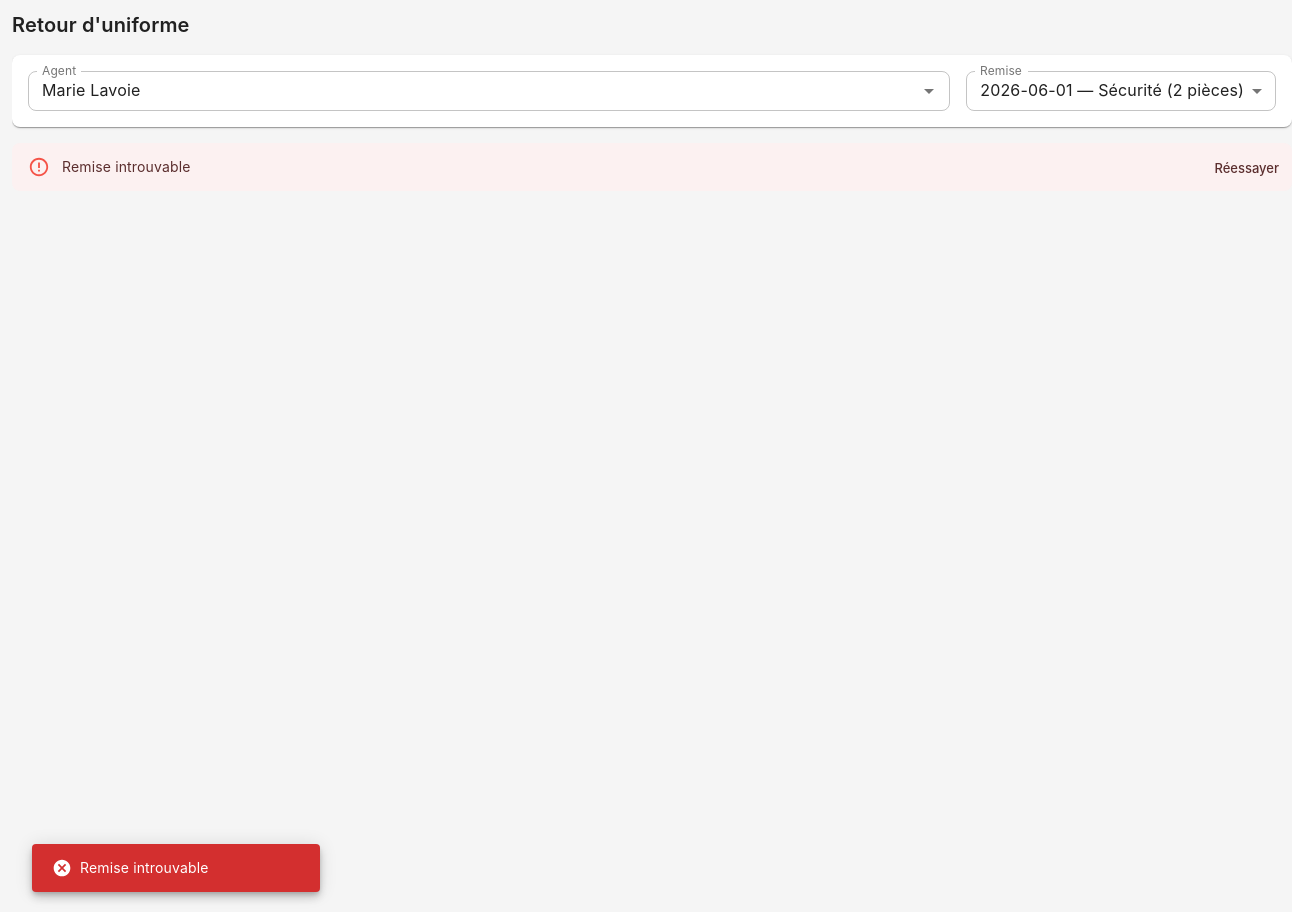
Scenario: UniformReturnsPage › affiche l'erreur de chargement de la remise et permet de réessayer
Expected: the dropdown showing "Marie Lavoie" is shown, [34, 77, 885, 105]
Click the dropdown named "remise" at (1112, 90), box [980, 80, 1244, 100]
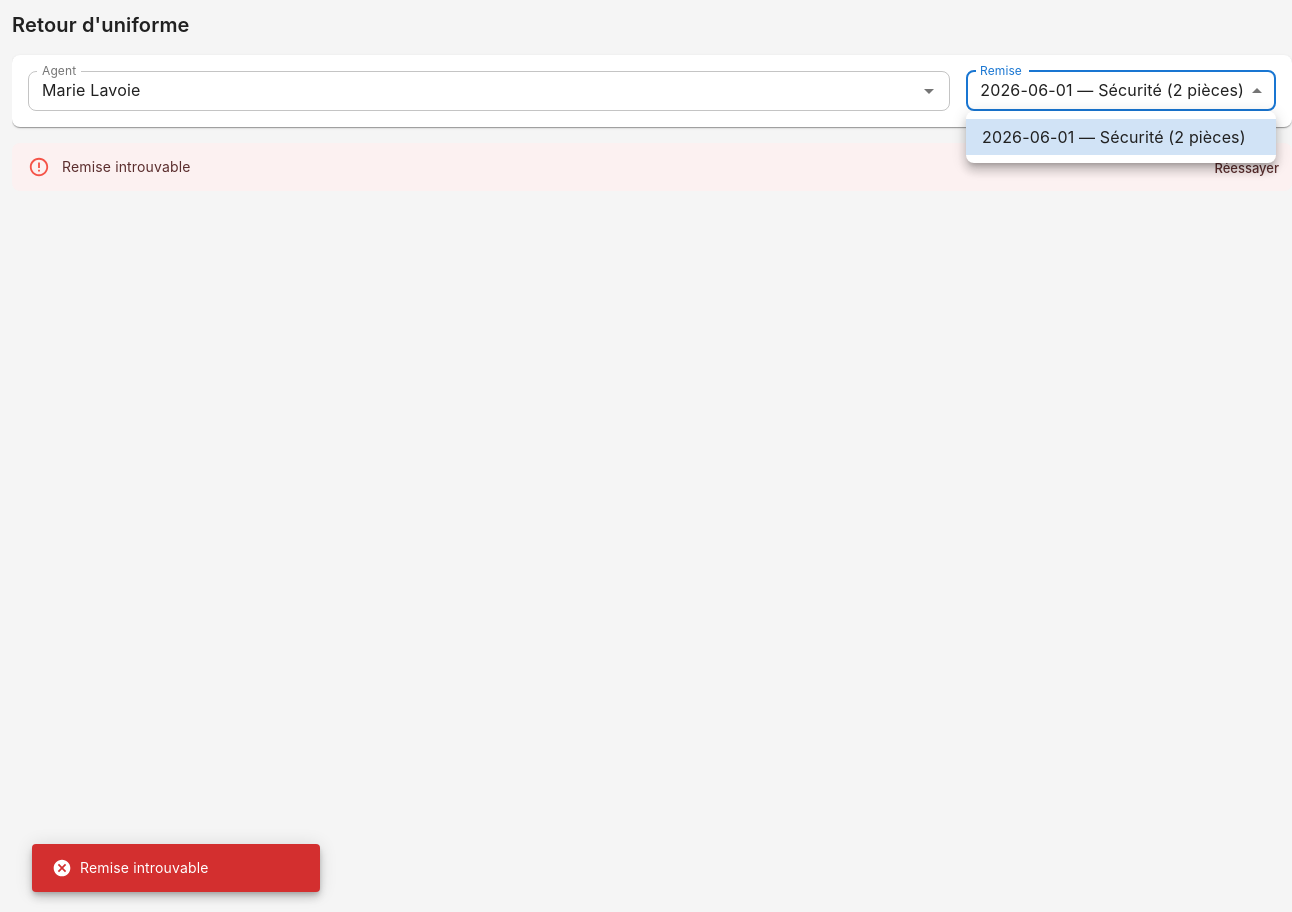
Click the option "2026-06-01 — Sécurité (2 pièces)" at (1121, 137), box [966, 119, 1276, 155]
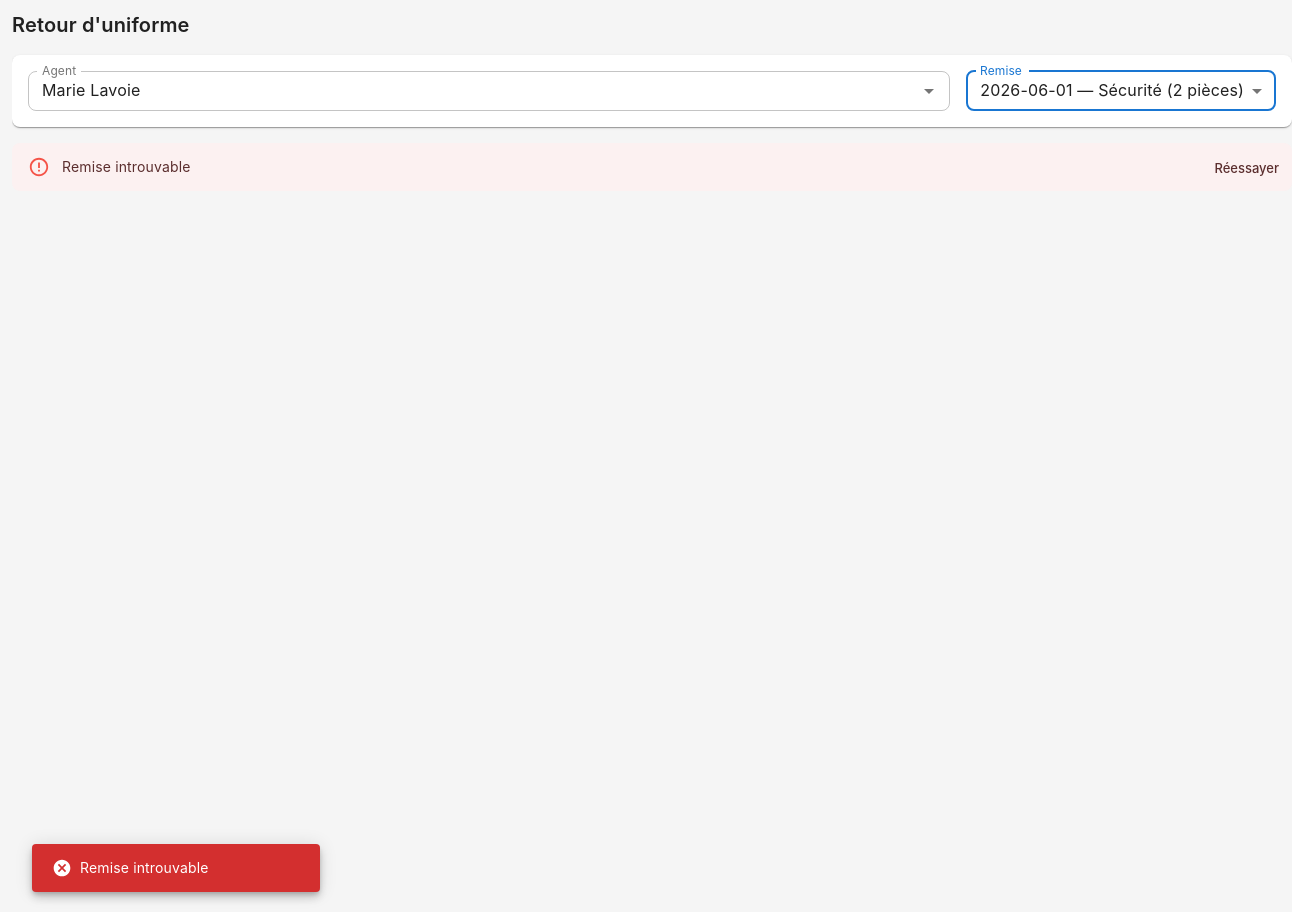
Expected: the text "Remise introuvable" is shown, [62, 158, 191, 175]
Click the button "Réessayer" at (1247, 168), box [1209, 153, 1284, 184]
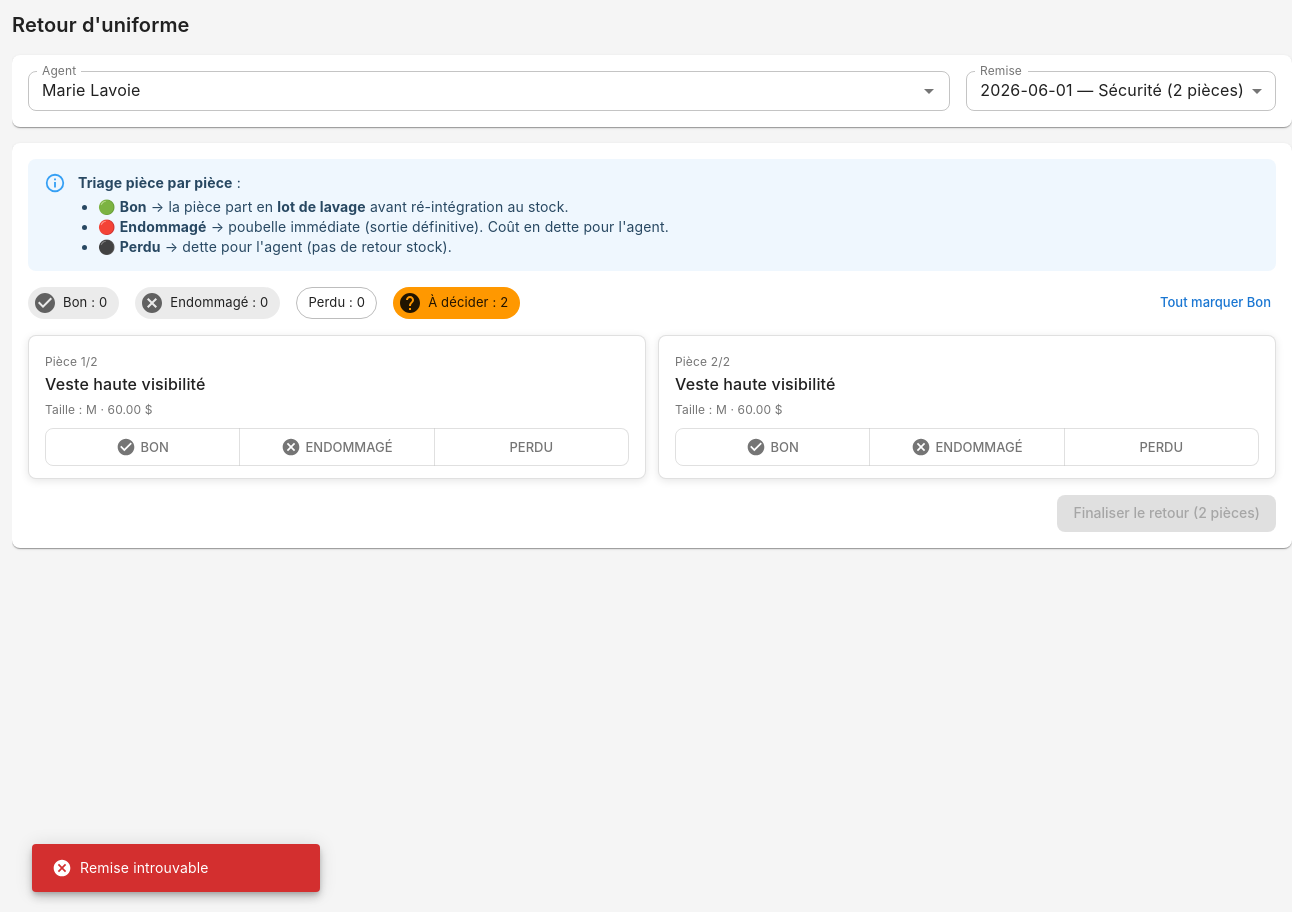
Expected: the text "Pièce 1/2" is shown, [45, 354, 98, 369]
